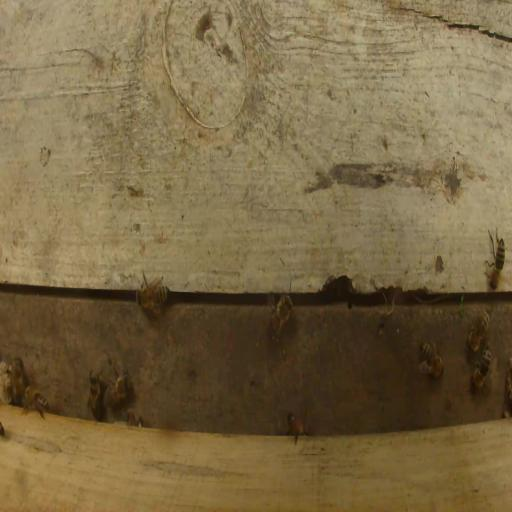nonpollenbee: (135, 269, 171, 318), (483, 227, 506, 292), (266, 293, 294, 340), (102, 370, 134, 411), (465, 309, 492, 356), (416, 337, 445, 379), (470, 341, 492, 391), (20, 385, 52, 419), (285, 410, 311, 446), (87, 372, 105, 423)
